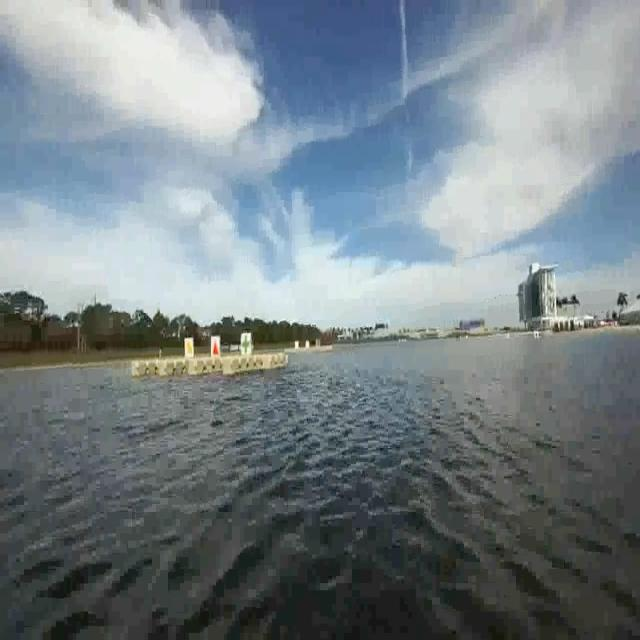blue-cross: (241, 332, 253, 358)
red-dot: (212, 337, 222, 360)
yellow-duck: (184, 338, 194, 360)
